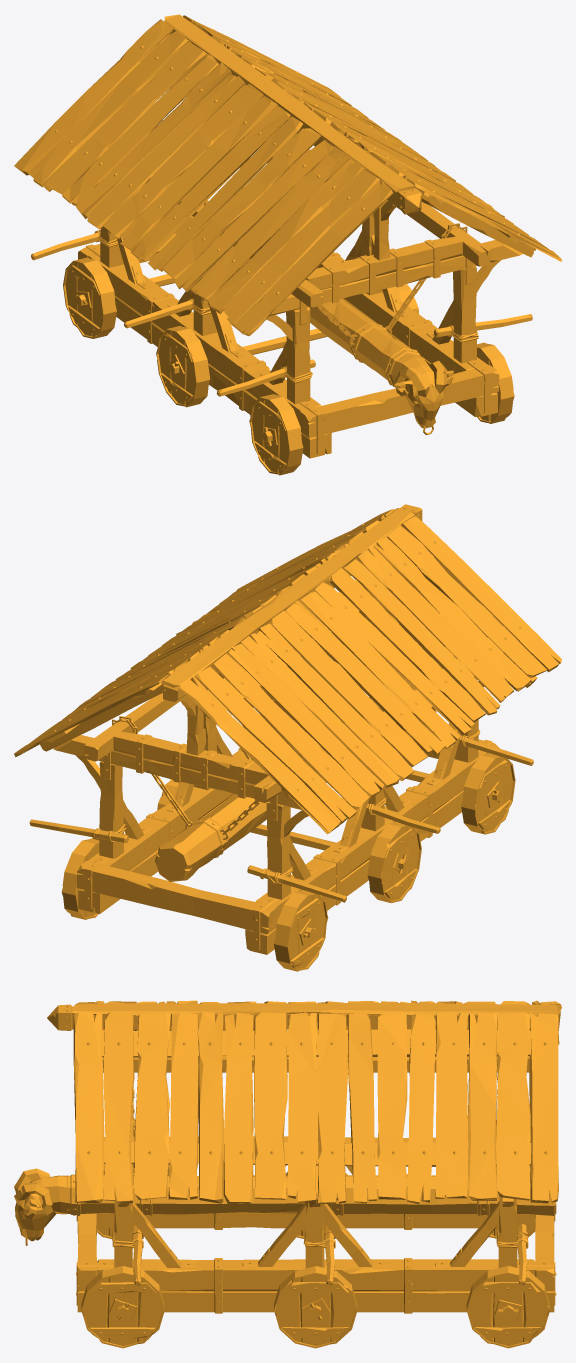
File: SM_Ram_Siege.fbx
3 views of the same model, one above another, from view 1: azimuth 30°, elevation 25°; view 2: azimuth 150°, elevation 25°; view 3: azimuth 270°, elevation 25° (orthographic). The views are drawn at different scales.
Visible parts, largest first — view 1: ram-frame, ram-log-a, ram-wheels-fr, ram-wheels-mid, ram-wheels-ba, ram-chain-fr; view 2: ram-frame, ram-wheels-ba, ram-log-a, ram-wheels-mid, ram-wheels-fr, ram-chain-ba; view 3: ram-frame, ram-log-a, ram-wheels-fr, ram-wheels-ba, ram-wheels-mid.
Part boxes in pixels (box(x1,y1,x2,y2)): ram-frame: box(14, 14, 561, 458); ram-log-a: box(188, 194, 453, 434); ram-wheels-fr: box(249, 342, 514, 475); ram-wheels-mid: box(156, 284, 418, 407); ram-wheels-ba: box(63, 257, 174, 338); ram-chain-fr: box(317, 278, 426, 339); ram-frame: box(14, 504, 561, 954); ram-wheels-ba: box(61, 838, 328, 971); ram-log-a: box(155, 697, 436, 881); ram-wheels-mid: box(157, 779, 421, 902); ram-wheels-fr: box(262, 717, 515, 834); ram-chain-ba: box(151, 774, 260, 834); ram-frame: box(47, 1000, 561, 1313); ram-log-a: box(14, 1168, 556, 1245); ram-wheels-fr: box(81, 1164, 164, 1348); ram-wheels-ba: box(466, 1167, 549, 1348); ram-wheels-mid: box(274, 1171, 357, 1348).
Bounding box in the file's own units: 3.51 × 2.92 × 5.07.
